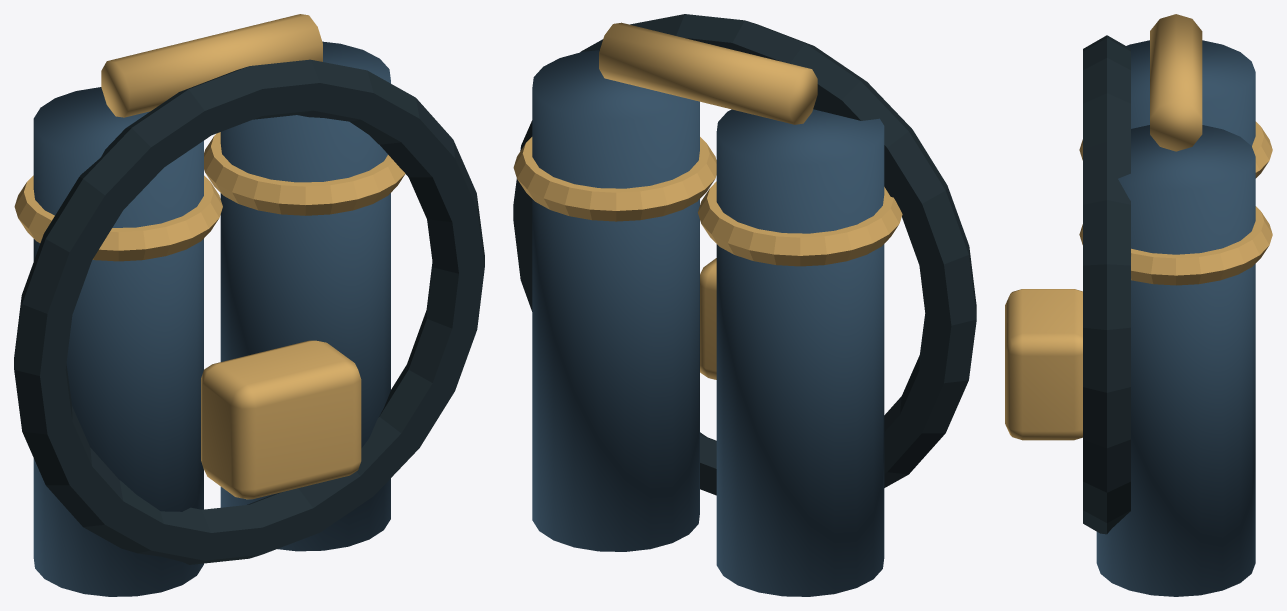
The model's file is relic-bronzeLung.glb.
3 views of the same model, side by side, from view 1: azimuth 30°, elevation 25°; view 2: azimuth 150°, elevation 25°; view 3: azimuth 270°, elevation 25° (orthographic). The views are drawn at different scales.
Visible parts, largest first — view 1: relic-bronzeLung / Paint | Prussian blue, relic-bronzeLung / Rubber | dark insets, relic-bronzeLung / Brass | machined champagne; view 2: relic-bronzeLung / Paint | Prussian blue, relic-bronzeLung / Rubber | dark insets, relic-bronzeLung / Brass | machined champagne; view 3: relic-bronzeLung / Paint | Prussian blue, relic-bronzeLung / Brass | machined champagne, relic-bronzeLung / Rubber | dark insets.
Part boxes in pixels (x1,y1,x2,y2): relic-bronzeLung / Paint | Prussian blue: (33,41,390,596); relic-bronzeLung / Rubber | dark insets: (14,59,484,564); relic-bronzeLung / Brass | machined champagne: (14,14,405,499); relic-bronzeLung / Paint | Prussian blue: (532,50,884,596); relic-bronzeLung / Rubber | dark insets: (513,14,976,495); relic-bronzeLung / Brass | machined champagne: (513,22,902,379); relic-bronzeLung / Paint | Prussian blue: (1096,40,1255,596); relic-bronzeLung / Brass | machined champagne: (1005,14,1272,440); relic-bronzeLung / Rubber | dark insets: (1083,35,1130,534).
Size of the model in its own units: 1.46 by 1.48 by 0.775.
